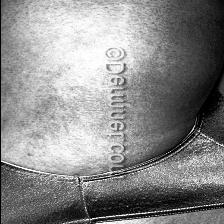Toxin: (56, 70, 102, 172), (129, 56, 177, 151)
